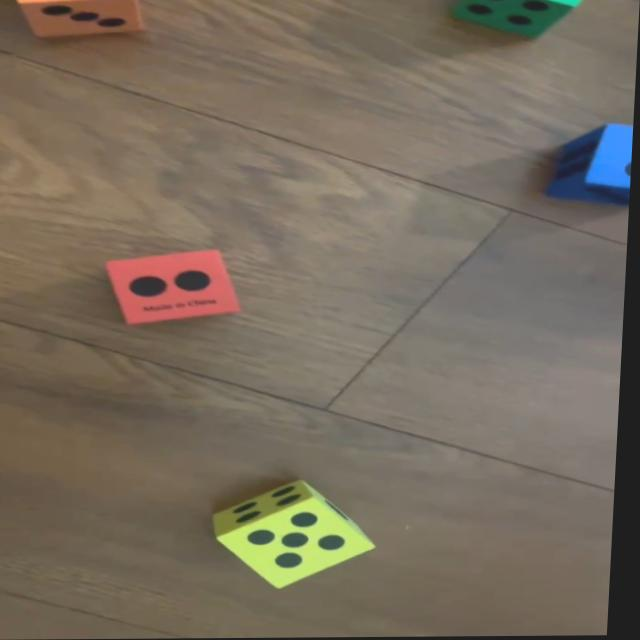blue_block: (552, 125, 635, 204)
red_block: (108, 251, 245, 325)
